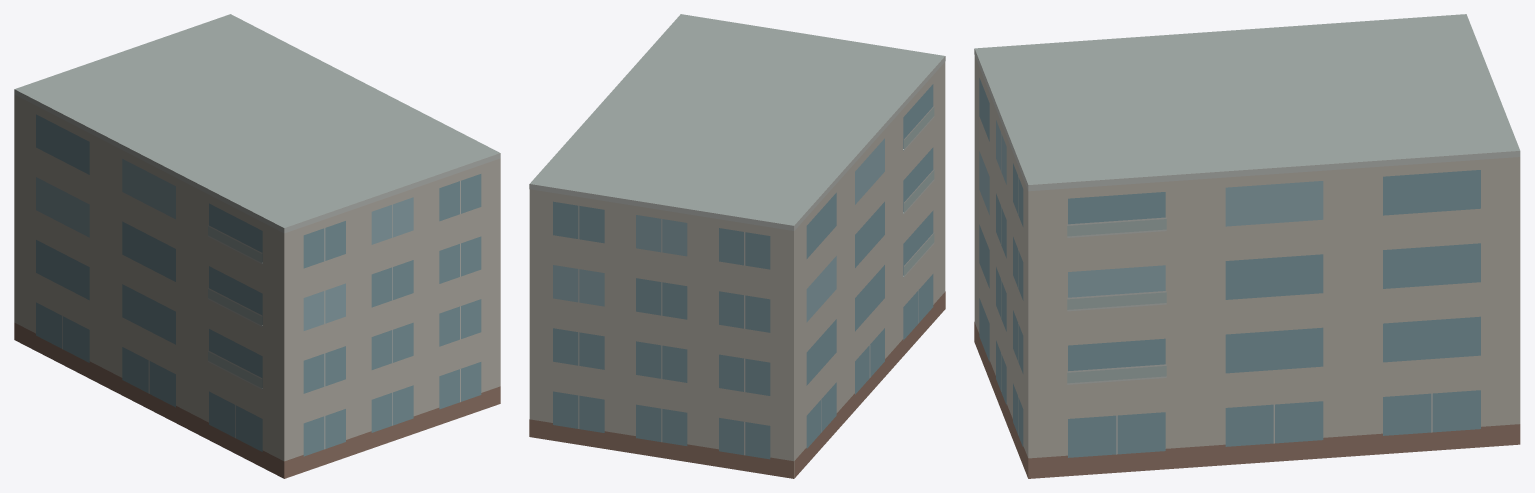
Rendered from survey-upis-32738029.glb.
3 views of the same model, side by side, from view 1: azimuth 30°, elevation 25°; view 2: azimuth 150°, elevation 25°; view 3: azimuth 270°, elevation 25° (orthographic). The views are drawn at different scales.
Visible parts, largest first — view 1: survey-upis-32738029.tmp; view 2: survey-upis-32738029.tmp; view 3: survey-upis-32738029.tmp.
Boxes of the visible parts, bbox=[...] form: survey-upis-32738029.tmp: bbox=[14, 14, 500, 478]; survey-upis-32738029.tmp: bbox=[529, 14, 945, 478]; survey-upis-32738029.tmp: bbox=[974, 14, 1520, 478].
Bounding box in the file's own units: 14.5 × 11.6 × 19.55.
